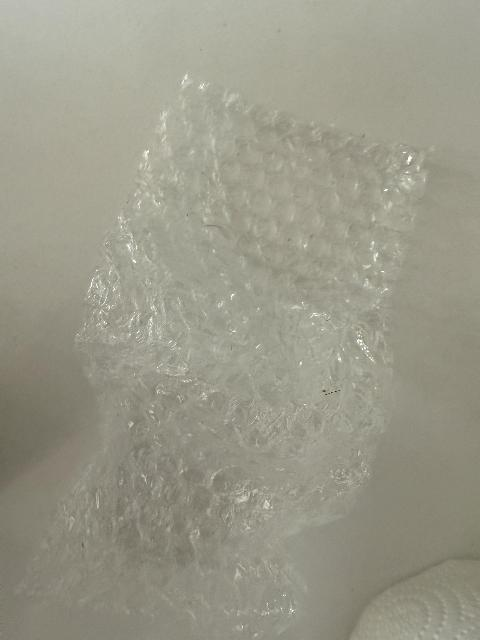Kagit: (348, 543, 480, 640)
Plastik: (8, 83, 440, 638)
